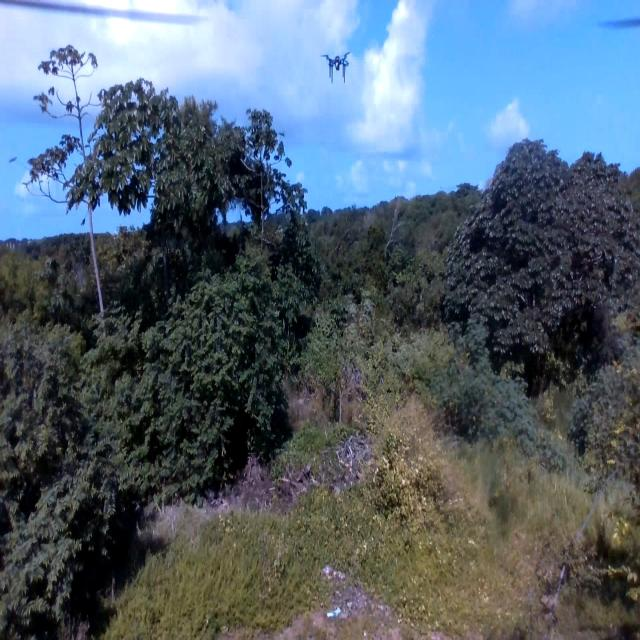-uav-: (319, 41, 356, 90)
